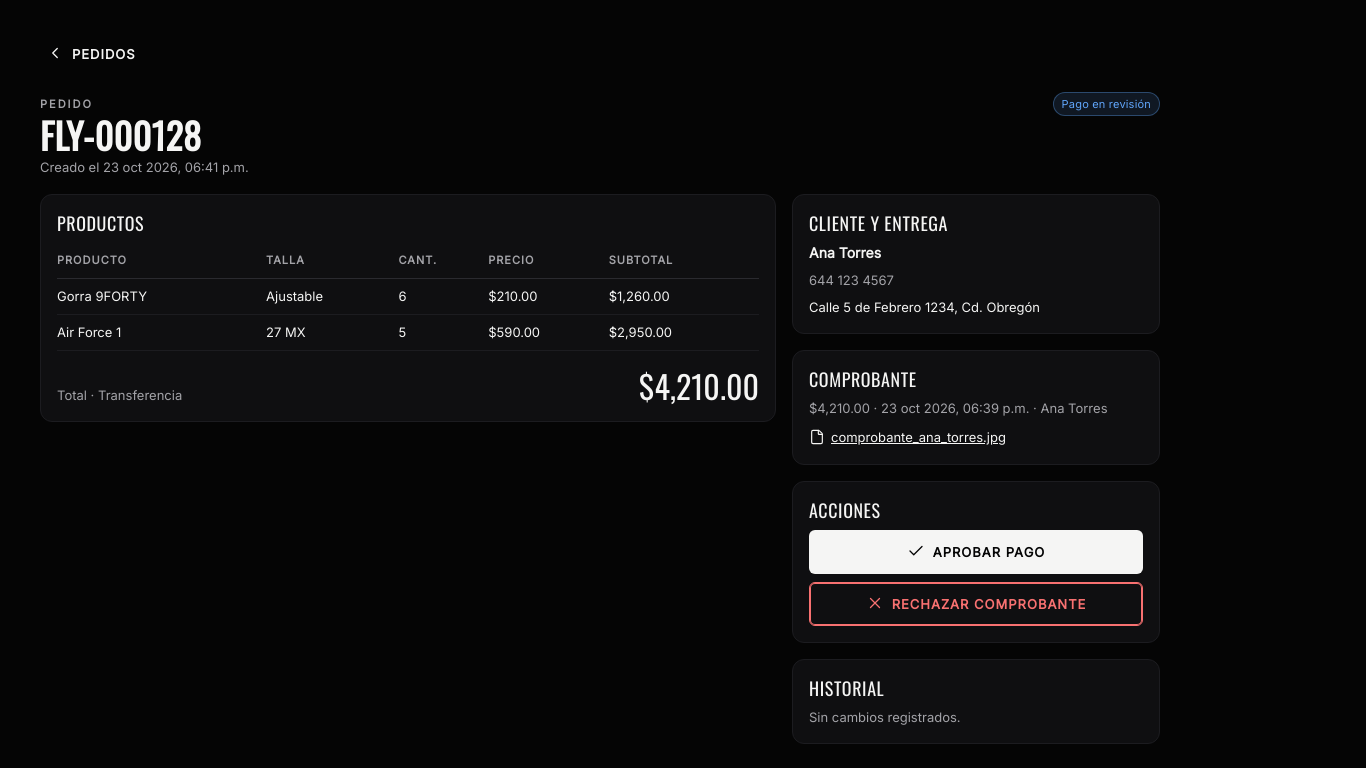
Test: DetallePedidoVista · Front 3 · validar pago › cancelar el diálogo de aprobación no llama al backend
Expected: the heading "FLY-000128" is shown, [40,108,201,161]
Click the button "Aprobar pago": (976, 552) [809,530,1143,574]
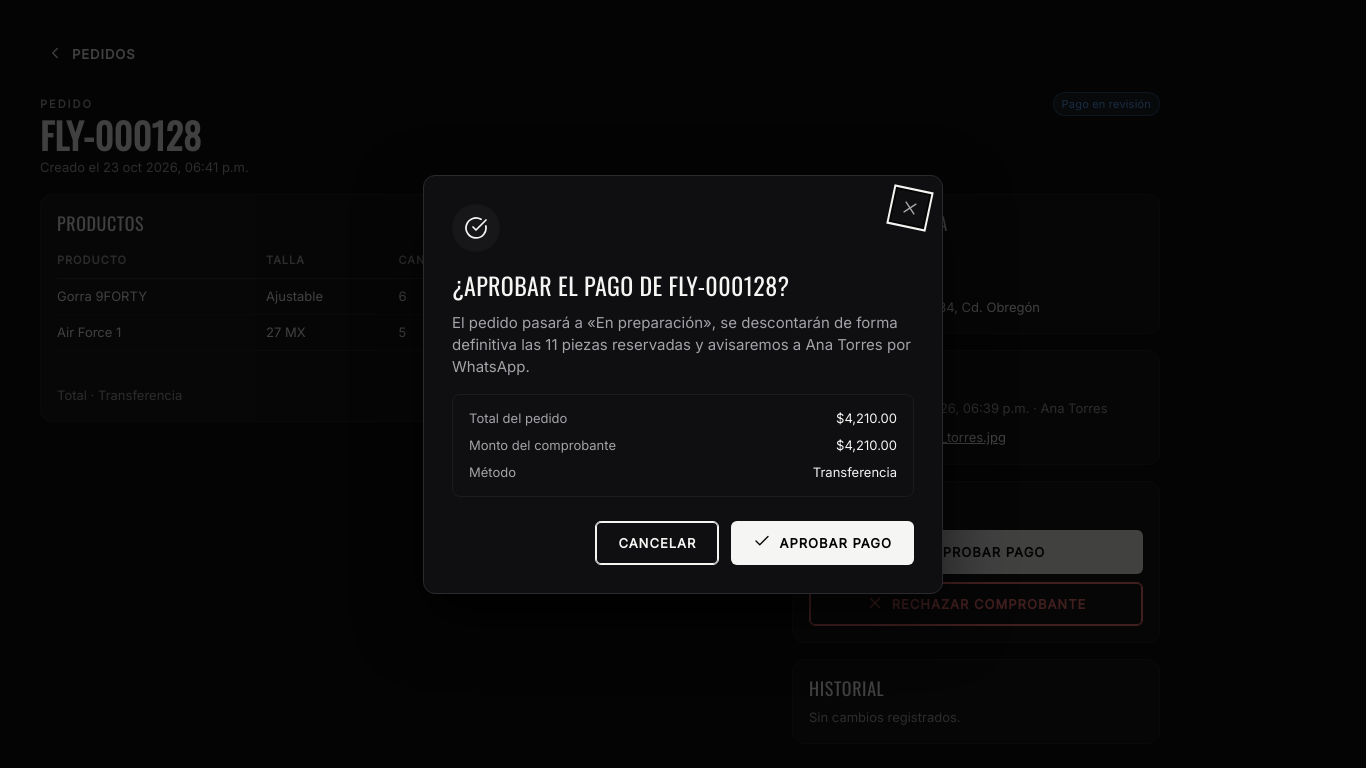
Click the button "Cancelar": (657, 542) [595,520,719,564]
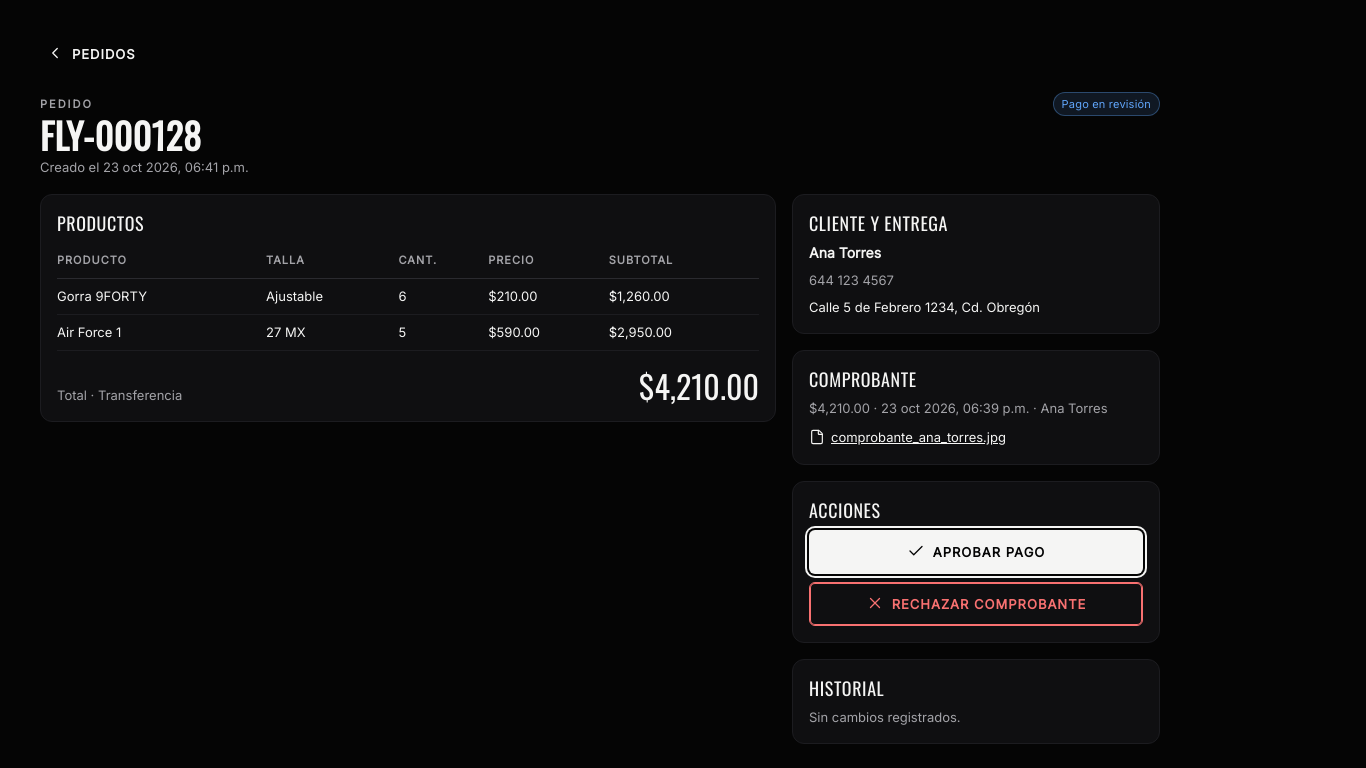
Expected: the dialog is gone
